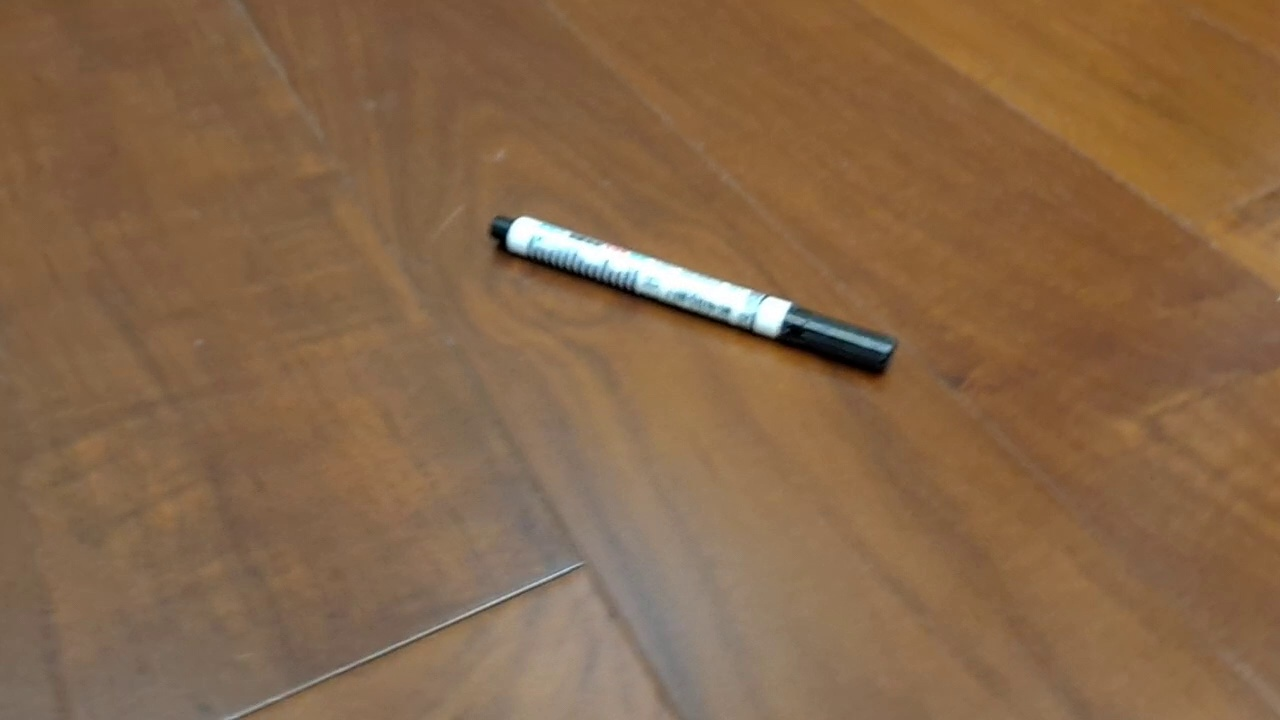pen: (488, 214, 900, 378)
